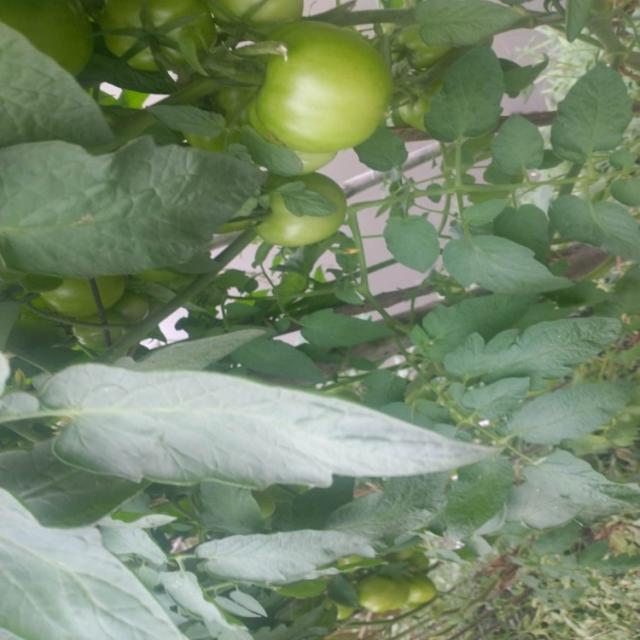tomato: (251, 20, 391, 158), (102, 3, 235, 78), (255, 173, 350, 249), (1, 2, 101, 72), (47, 280, 142, 329), (214, 5, 303, 42), (358, 568, 408, 619), (405, 562, 443, 616), (392, 86, 432, 132)
